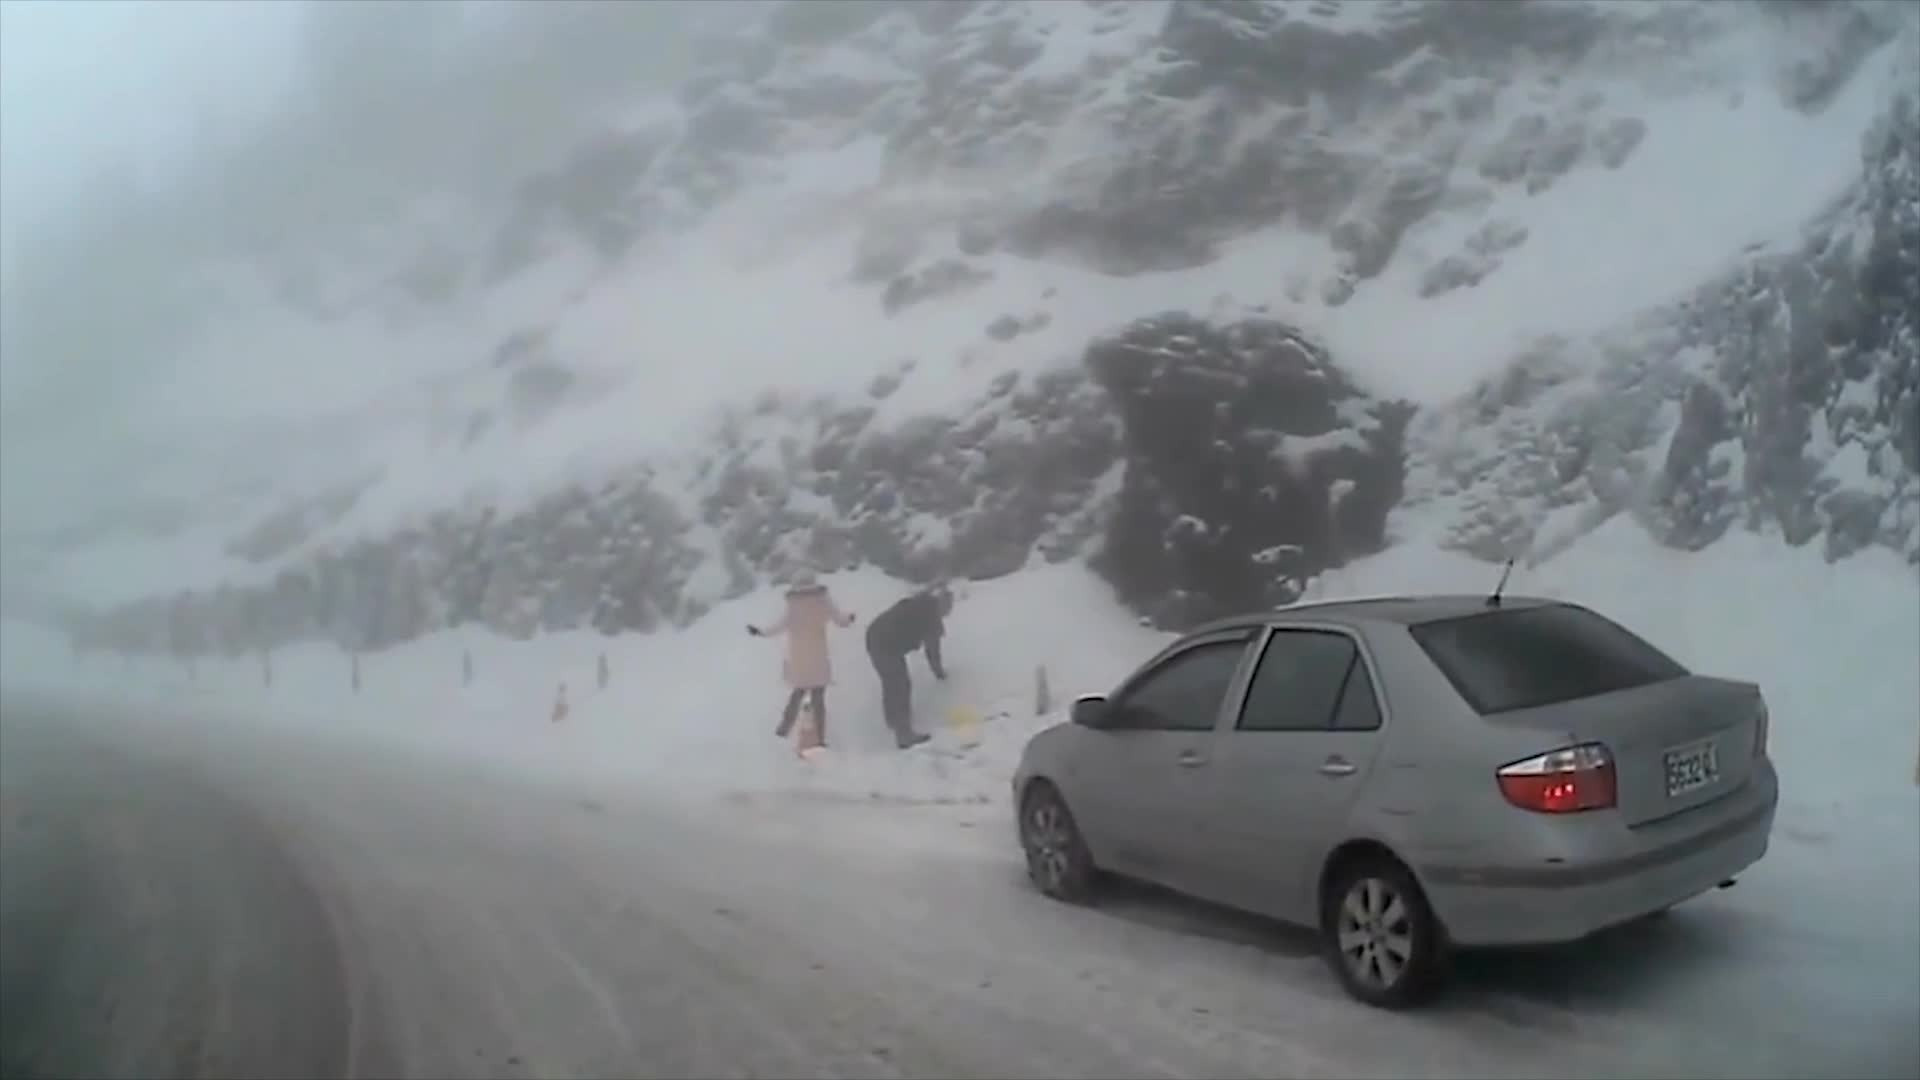pedestrian: (750, 568, 860, 751), (868, 587, 957, 746)
vehicle: (1012, 591, 1778, 1008)
